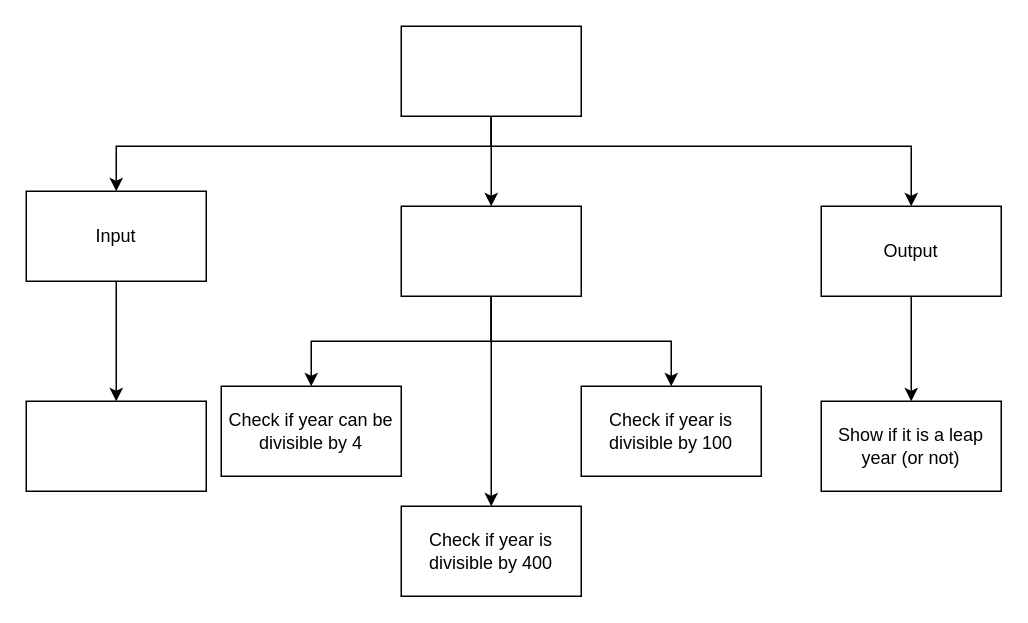
Image size: 1028x623. Some labels were removed from this diagram. Each missing label, with the centre of its shape:
"Get year" goes at (x=115, y=445).
"Leap year" goes at (x=490, y=70).
"Process" goes at (x=490, y=250).
